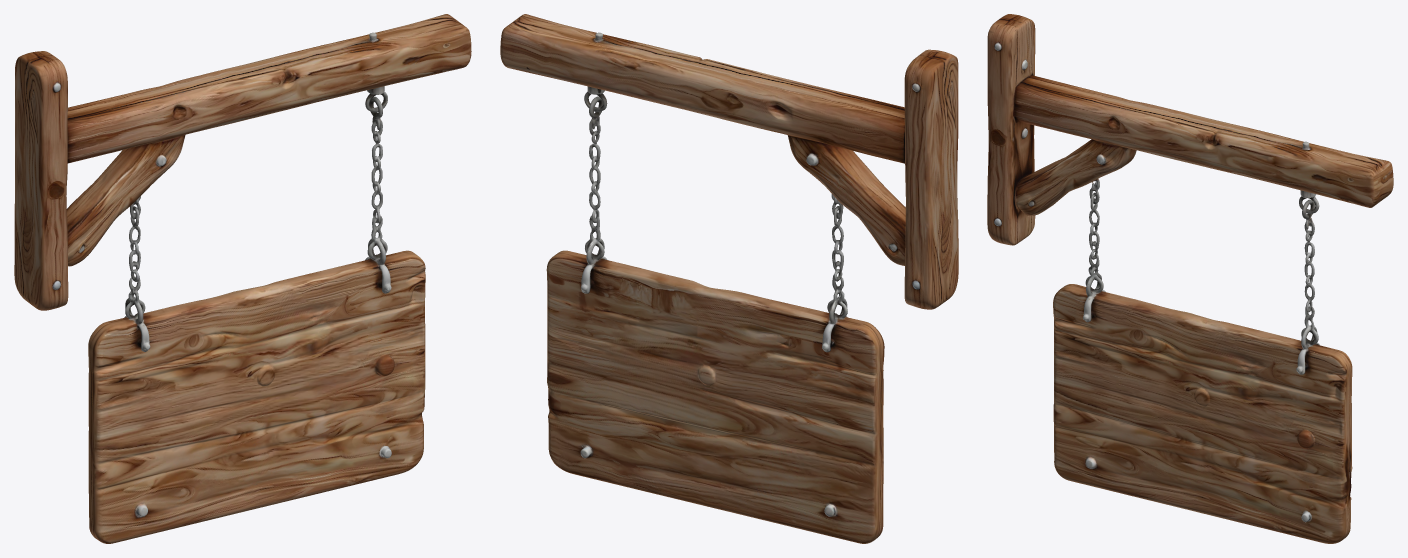
Rendered from prop-sign-wooden.glb.
The picture shows the model from 3 angles, left to right: view 1: azimuth 30°, elevation 25°; view 2: azimuth 150°, elevation 25°; view 3: azimuth 330°, elevation 25°; orthographic projection. The views are drawn at different scales.
Parts seen in each view (by area): view 1: tripo_node_2aeff2d8-bb16-4cb8-8940-f71c319ab21b; view 2: tripo_node_2aeff2d8-bb16-4cb8-8940-f71c319ab21b; view 3: tripo_node_2aeff2d8-bb16-4cb8-8940-f71c319ab21b.
Boxes of the visible parts, bbox=[...] form: tripo_node_2aeff2d8-bb16-4cb8-8940-f71c319ab21b: bbox=[14, 14, 471, 543]; tripo_node_2aeff2d8-bb16-4cb8-8940-f71c319ab21b: bbox=[500, 14, 958, 543]; tripo_node_2aeff2d8-bb16-4cb8-8940-f71c319ab21b: bbox=[987, 14, 1393, 543].
Bounding box in the file's own units: 0.9076 × 1 × 0.1195.
Materials: 1 (1 with a texture image).
